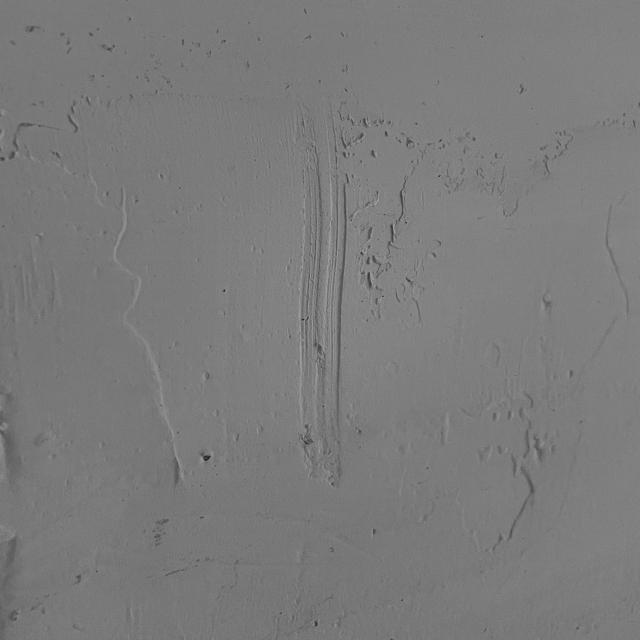rough and patchy surface: (0, 13, 620, 640)
